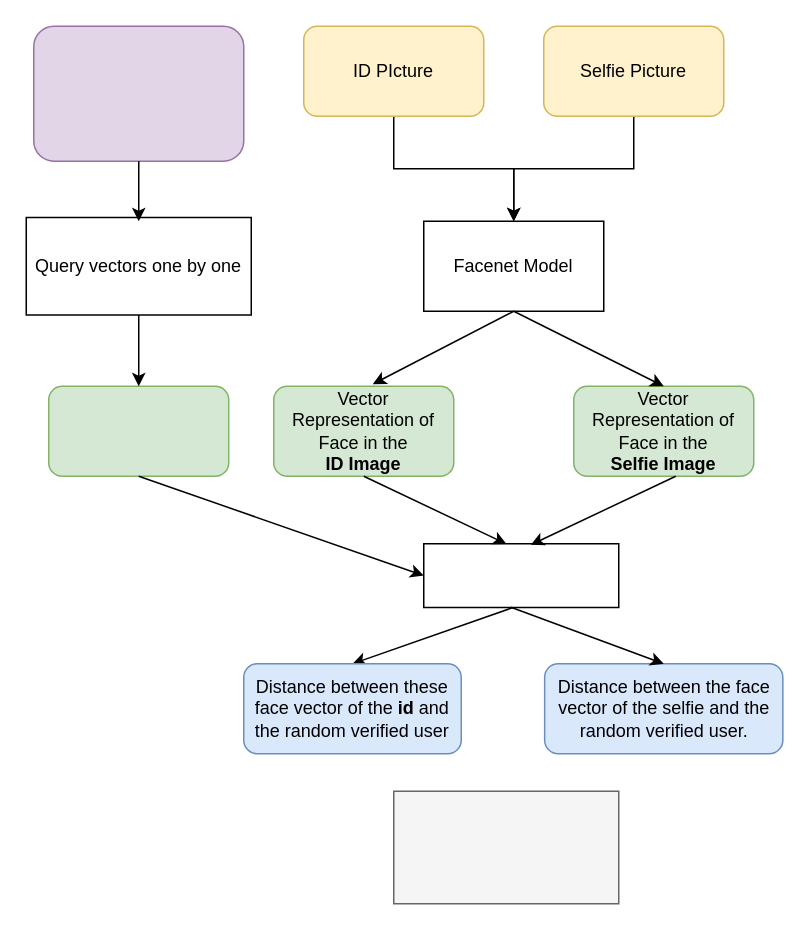
This 810x930 diagram has some shape labels left out. The centre of each missing label's shape, as x and y in pixels:
"Cosine Similarity" belongs at [520,575].
"Database containing Vector Representation of Faces of Registered Users." belongs at [138,93].
"If both distances are less than 0.40, this test passes" belongs at [505,847].
"Random Vector Representation of a face belonging to a verified user" belongs at [138,430].
